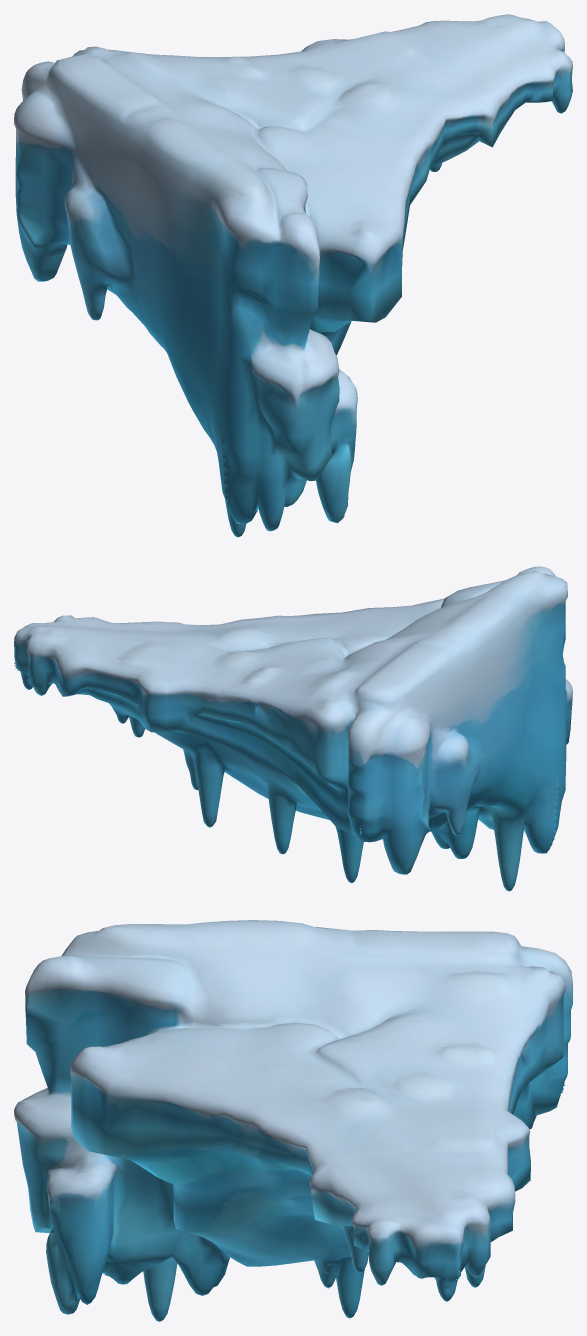
Rendered from SM_Tripo_FrostIceBridge.glb.
3 renders of one model, top to bottom at view 1: azimuth 30°, elevation 25°; view 2: azimuth 150°, elevation 25°; view 3: azimuth 270°, elevation 25°, orthographic. The views are drawn at different scales.
Parts seen in each view (by area): view 1: SM_Tripo_FrostIceBridge_LOD0; view 2: SM_Tripo_FrostIceBridge_LOD0; view 3: SM_Tripo_FrostIceBridge_LOD0.
Part boxes in pixels (bbox=[...]): SM_Tripo_FrostIceBridge_LOD0: bbox=[14, 14, 572, 537]; SM_Tripo_FrostIceBridge_LOD0: bbox=[14, 566, 572, 891]; SM_Tripo_FrostIceBridge_LOD0: bbox=[14, 920, 572, 1321].
Size of the model in its own units: 10.03 by 6.92 by 8.96.
1 material, 1 textured.
